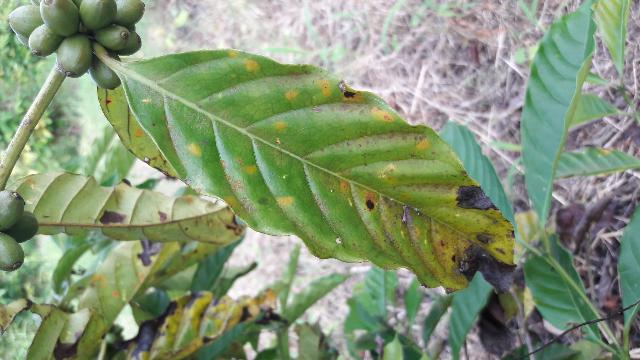rust_level_4: (116, 46, 515, 294)
